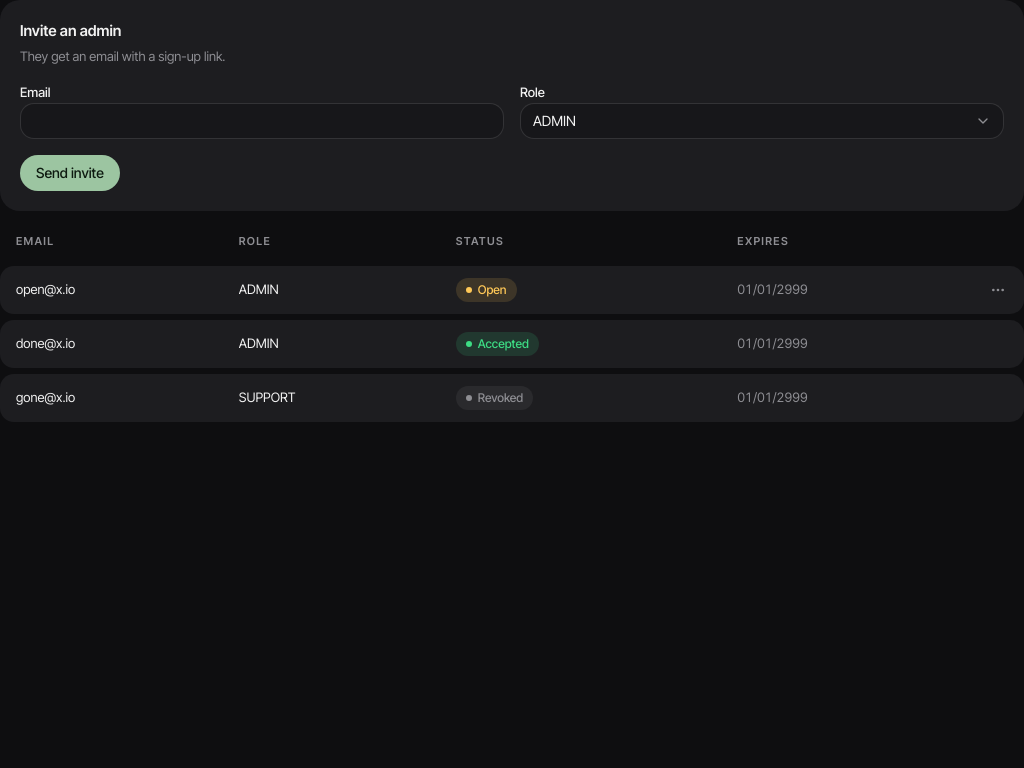
it: InvitesPanel › sends nothing on Revoke until confirmed and offers to keep the invite
The width and height of the screenshot is (1024, 768).
Click the button named "Actions for open@x.io" at (998, 290), box [980,272,1016,308]
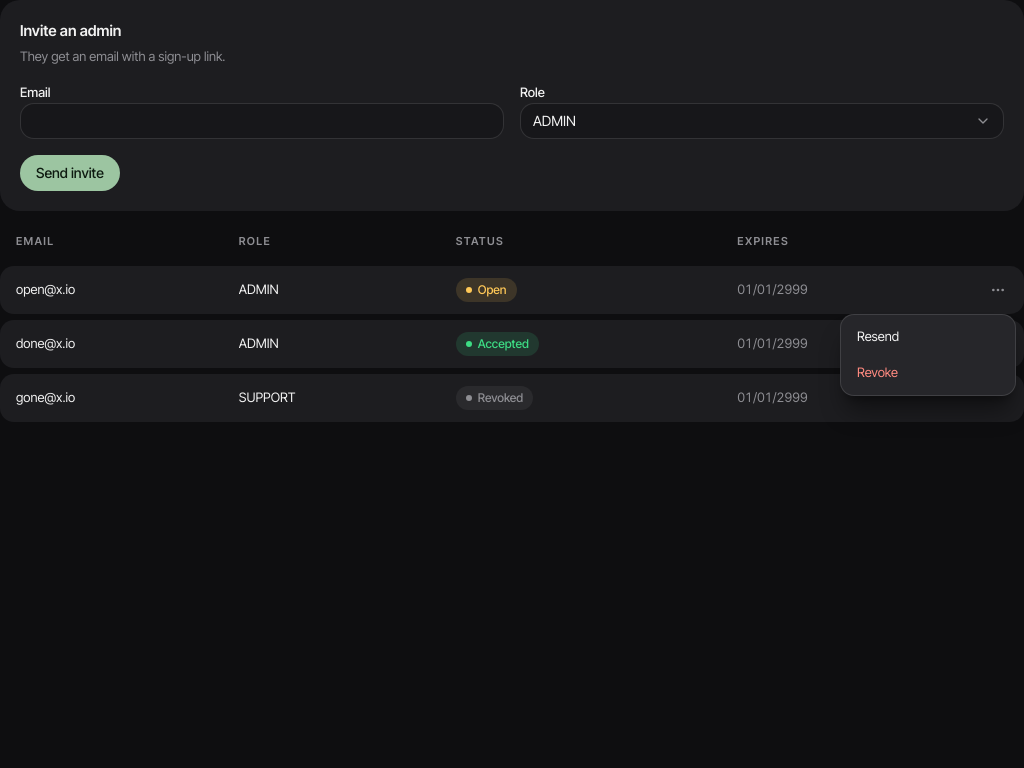
Click the menu item "Revoke" at (877, 372), box [857,364,898,380]
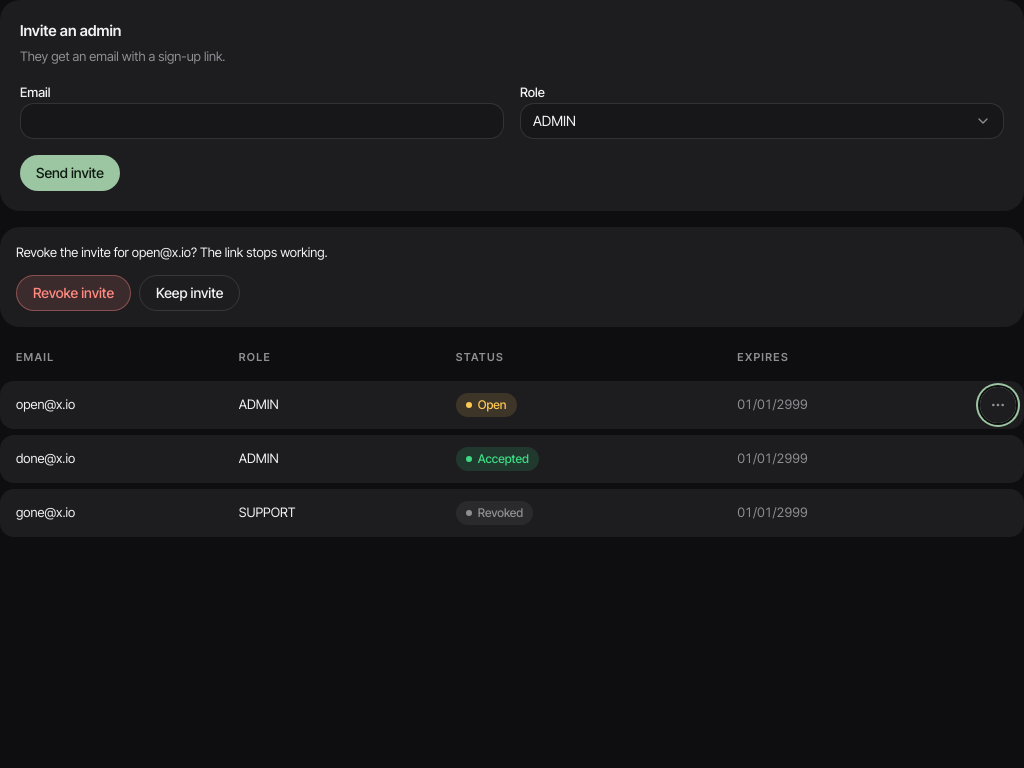
expect the text "Revoke the invite for open@x.io? The link stops working." is shown: met, box [16,244,328,260]
Click the button "Keep invite" at (190, 292), box [139,274,240,310]
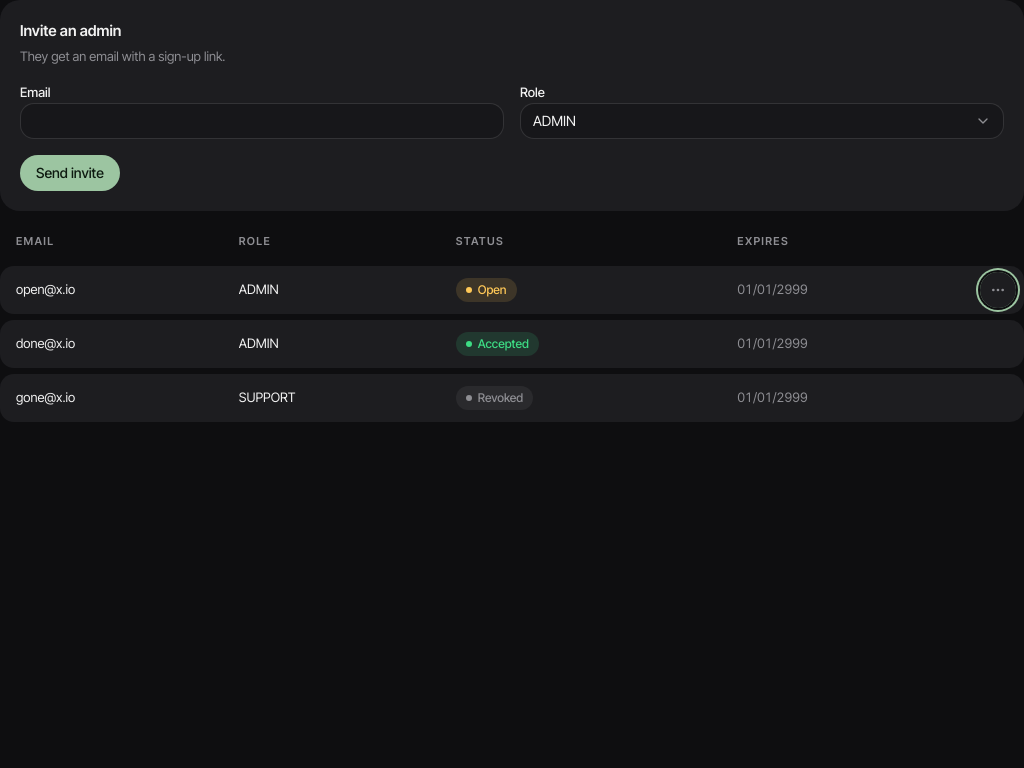
expect the text "The link stops working" is gone: met
